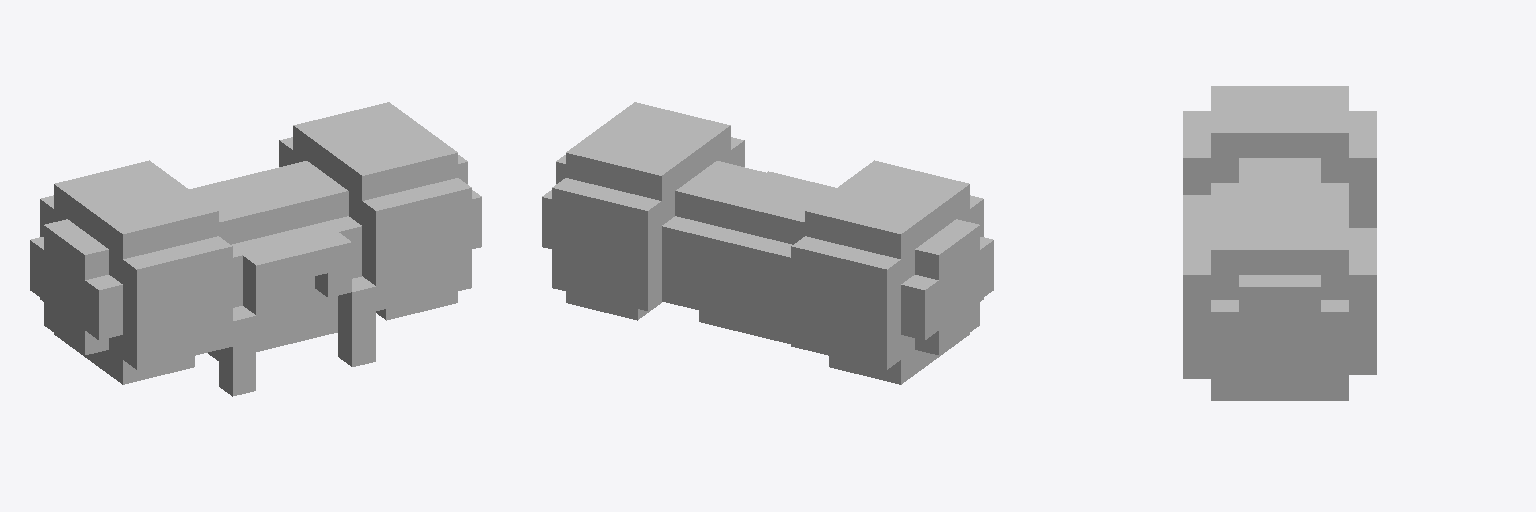
File: Head 7.obj
3 views of the same model, side by side, from view 1: azimuth 30°, elevation 25°; view 2: azimuth 150°, elevation 25°; view 3: azimuth 270°, elevation 25° (orthographic).
Size of the model in its own units: 16 by 7 by 7.